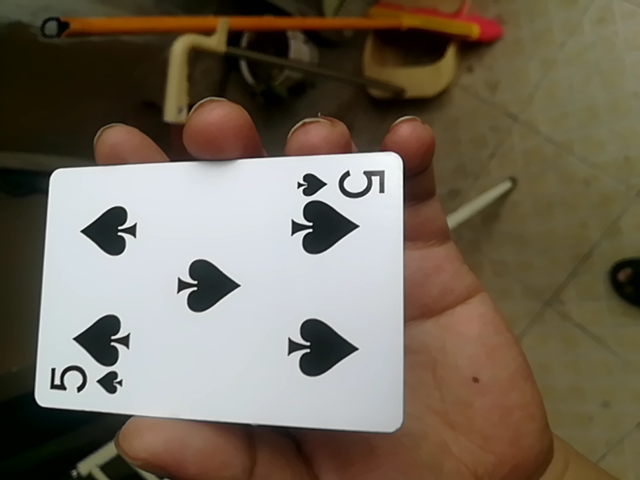ht 5: (30, 147, 408, 436)
